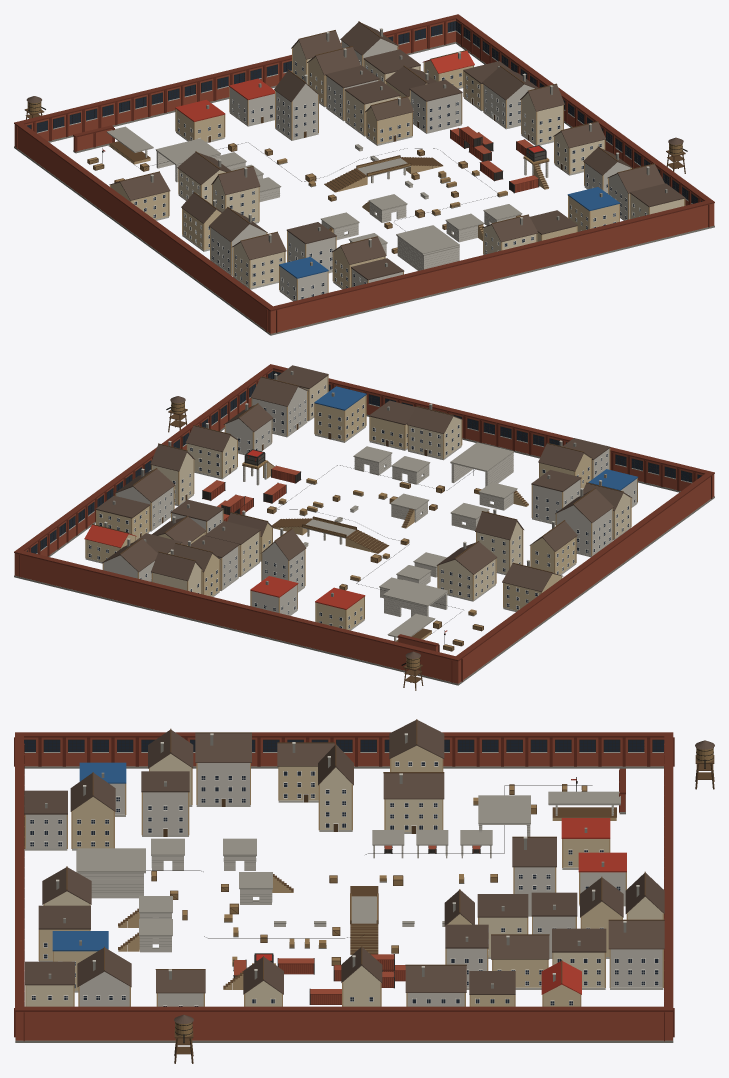
Rendered from apito.glb.
3 renders of one model, top to bottom at view 1: azimuth 30°, elevation 25°; view 2: azimuth 150°, elevation 25°; view 3: azimuth 270°, elevation 25°, orthographic. The views are drawn at different scales.
Parts seen in each view (by area): view 1: map_brick.001, map_roof_slate.001, map_wall_2.001, map_brick_d.001, map_wall_0.001, map_wall_1.001, map_concrete_d.001, map_glass.001, map_trim.001, map_wood_dark.001, map_wood_light.001, map_concrete.001 (+8 smaller); view 2: map_brick.001, map_roof_slate.001, map_brick_d.001, map_wall_2.001, map_wall_0.001, map_wall_1.001, map_concrete_d.001, map_glass.001, map_concrete.001, map_trim.001, map_wood_light.001, map_wood_dark.001 (+8 smaller); view 3: map_roof_slate.001, map_brick.001, map_brick_d.001, map_wall_2.001, map_concrete_d.001, map_wall_0.001, map_wall_1.001, map_glass.001, map_wood_dark.001, map_concrete.001, map_stone_dark.001, map_wood_light.001 (+9 smaller).
Boxes of the visible parts, x1,y1,x2,y2 form: map_brick.001: [14, 19, 714, 333]; map_roof_slate.001: [26, 22, 685, 280]; map_wall_2.001: [210, 38, 630, 300]; map_brick_d.001: [14, 14, 714, 332]; map_wall_0.001: [179, 41, 683, 287]; map_wall_1.001: [111, 57, 618, 288]; map_concrete_d.001: [107, 126, 547, 269]; map_glass.001: [27, 21, 701, 299]; map_trim.001: [134, 60, 646, 299]; map_wood_dark.001: [24, 21, 685, 253]; map_wood_light.001: [109, 40, 685, 300]; map_concrete.001: [107, 132, 548, 270]; map_brick.001: [14, 369, 714, 683]; map_roof_slate.001: [95, 365, 631, 658]; map_brick_d.001: [14, 364, 714, 682]; map_wall_2.001: [103, 387, 636, 615]; map_wall_0.001: [152, 376, 630, 599]; map_wall_1.001: [86, 396, 590, 629]; map_concrete_d.001: [243, 442, 517, 641]; map_glass.001: [27, 371, 701, 628]; map_concrete.001: [243, 452, 516, 641]; map_trim.001: [88, 385, 635, 629]; map_wood_light.001: [85, 375, 637, 639]; map_wood_dark.001: [92, 376, 623, 690]; map_roof_slate.001: [24, 720, 714, 1023]; map_brick.001: [15, 737, 672, 1040]; map_brick_d.001: [14, 732, 674, 1041]; map_wall_2.001: [26, 763, 662, 1006]; map_concrete_d.001: [76, 791, 620, 949]; map_wall_0.001: [26, 754, 662, 1006]; map_wall_1.001: [40, 745, 621, 1006]; map_glass.001: [24, 740, 664, 1006]; map_wood_dark.001: [66, 719, 714, 1063]; map_concrete.001: [77, 804, 620, 952]; map_stone_dark.001: [15, 735, 673, 1042]; map_wood_light.001: [24, 758, 663, 1006].
Bounding box in the file's own units: 179 × 20.49 × 175.
